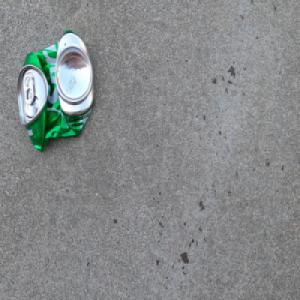SodaCan: (16, 27, 95, 154)
